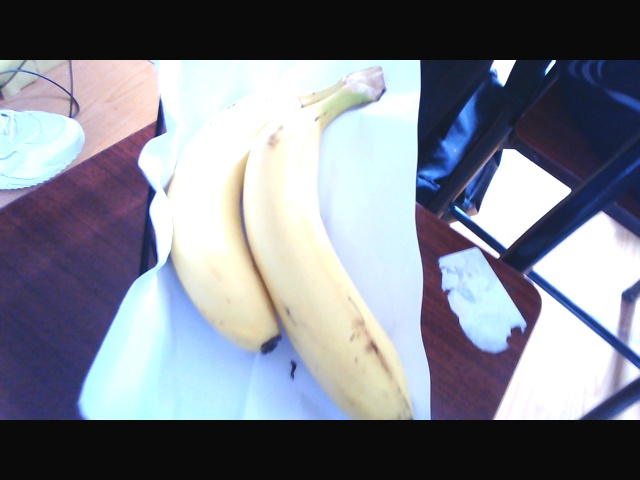banana: (170, 72, 422, 416)
